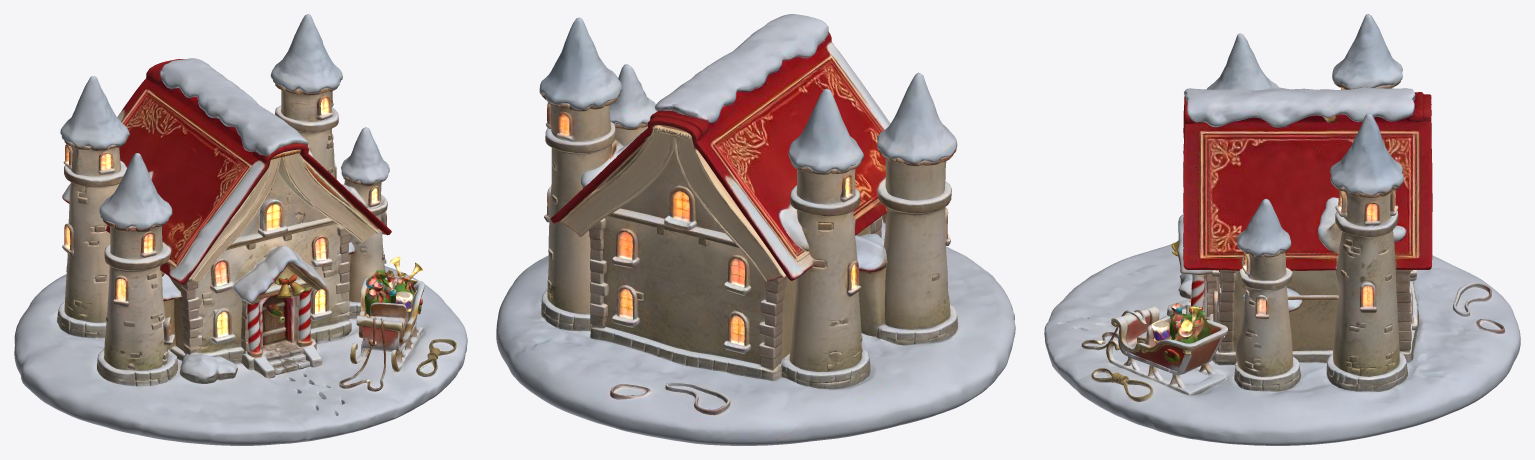
File: kidnapped-santa.glb
3 renders of one model, left to right at view 1: azimuth 30°, elevation 25°; view 2: azimuth 150°, elevation 25°; view 3: azimuth 270°, elevation 25°, orthographic. The views are drawn at different scales.
Parts seen in each view (by area): view 1: model; view 2: model; view 3: model.
Boxes of the visible parts, box(x1,y1,x2,y2) form: model: box(14, 14, 467, 445); model: box(496, 14, 1015, 445); model: box(1044, 14, 1520, 445).
Size of the model in its own units: 1.89 by 1.29 by 1.9.
Materials: 1 (1 with a texture image).
